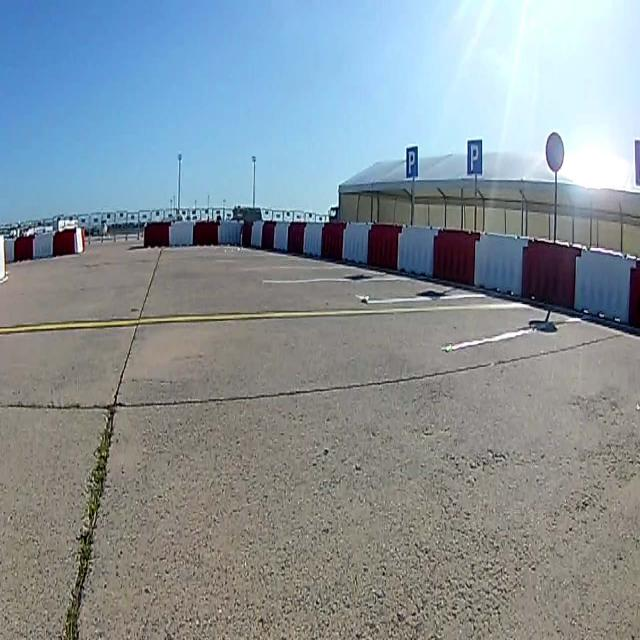park: (468, 139, 483, 173), (406, 146, 418, 177)
parkyasak: (546, 134, 564, 169)
